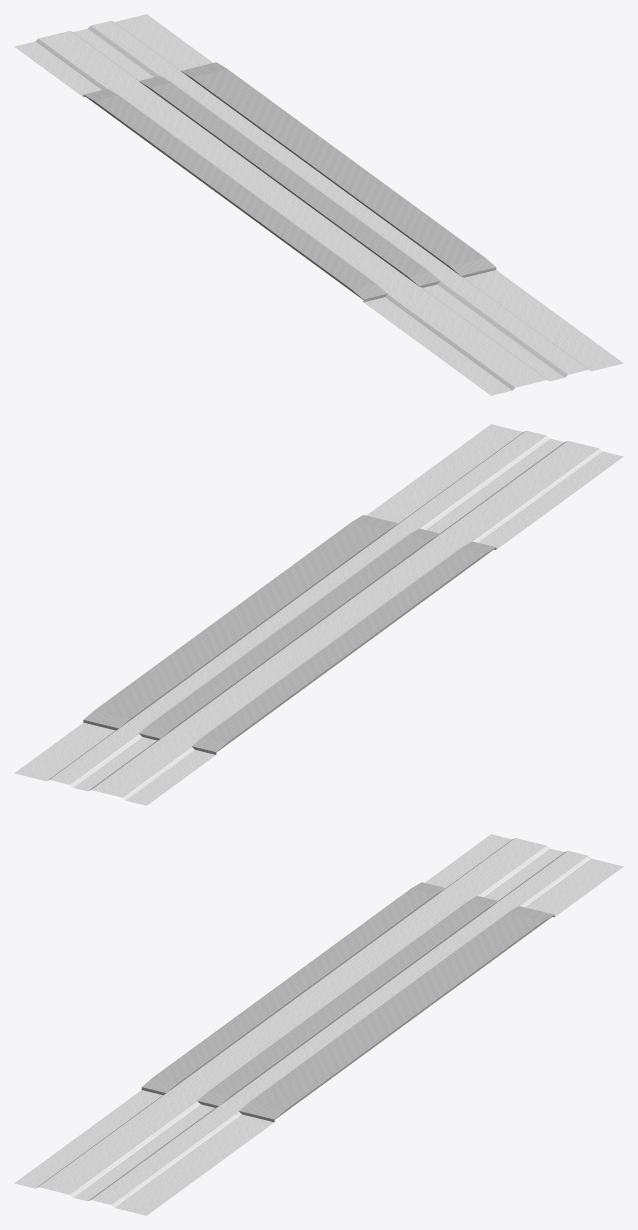
File: RailGround_A_001.fbx
The picture shows the model from 3 angles, top to bottom: view 1: azimuth 30°, elevation 25°; view 2: azimuth 150°, elevation 25°; view 3: azimuth 330°, elevation 25°; orthographic projection.
Visible parts, largest first — view 1: RailGround_A_001; view 2: RailGround_A_001; view 3: RailGround_A_001.
Part boxes in pixels (x1,y1,x2,y2): RailGround_A_001: (14, 14, 623, 395); RailGround_A_001: (14, 424, 623, 805); RailGround_A_001: (14, 834, 623, 1215).
Bounding box in the file's own units: 4521 × 139 × 28121.
4 materials, 4 textured.
